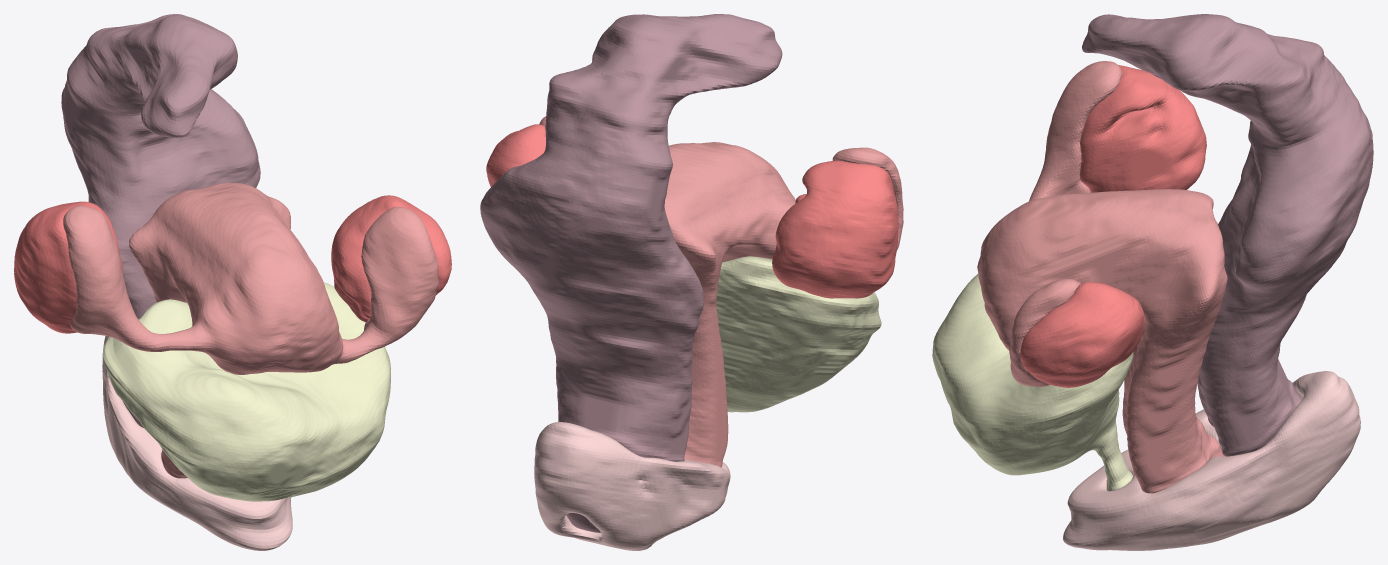
The model's file is pelvic-organs-mri.glb.
3 views of the same model, side by side, from view 1: azimuth 30°, elevation 25°; view 2: azimuth 150°, elevation 25°; view 3: azimuth 270°, elevation 25° (orthographic). The views are drawn at different scales.
Visible parts, largest first — view 1: uterus-and-tubes_4, bladder_1, rectum_3, ovaries_2, vulva_5; view 2: rectum_3, uterus-and-tubes_4, bladder_1, vulva_5, ovaries_2; view 3: rectum_3, uterus-and-tubes_4, vulva_5, ovaries_2, bladder_1.
Boxes of the visible parts, x1=… form: uterus-and-tubes_4: x1=63, y1=183, x2=438, y2=478; bladder_1: x1=102, y1=282, x2=390, y2=501; rectum_3: x1=61, y1=14, x2=260, y2=427; ovaries_2: x1=14, y1=195, x2=451, y2=333; vulva_5: x1=102, y1=336, x2=292, y2=550; rectum_3: x1=480, y1=14, x2=782, y2=532; uterus-and-tubes_4: x1=539, y1=116, x2=903, y2=467; bladder_1: x1=716, y1=256, x2=881, y2=412; vulva_5: x1=534, y1=422, x2=730, y2=550; ovaries_2: x1=486, y1=124, x2=898, y2=298; rectum_3: x1=1082, y1=14, x2=1373, y2=456; uterus-and-tubes_4: x1=977, y1=61, x2=1227, y2=493; vulva_5: x1=1063, y1=371, x2=1360, y2=550; ovaries_2: x1=1020, y1=65, x2=1206, y2=387; bladder_1: x1=932, y1=274, x2=1133, y2=491.
Bounding box in the file's own units: 0.4635 × 0.5546 × 0.4314.
